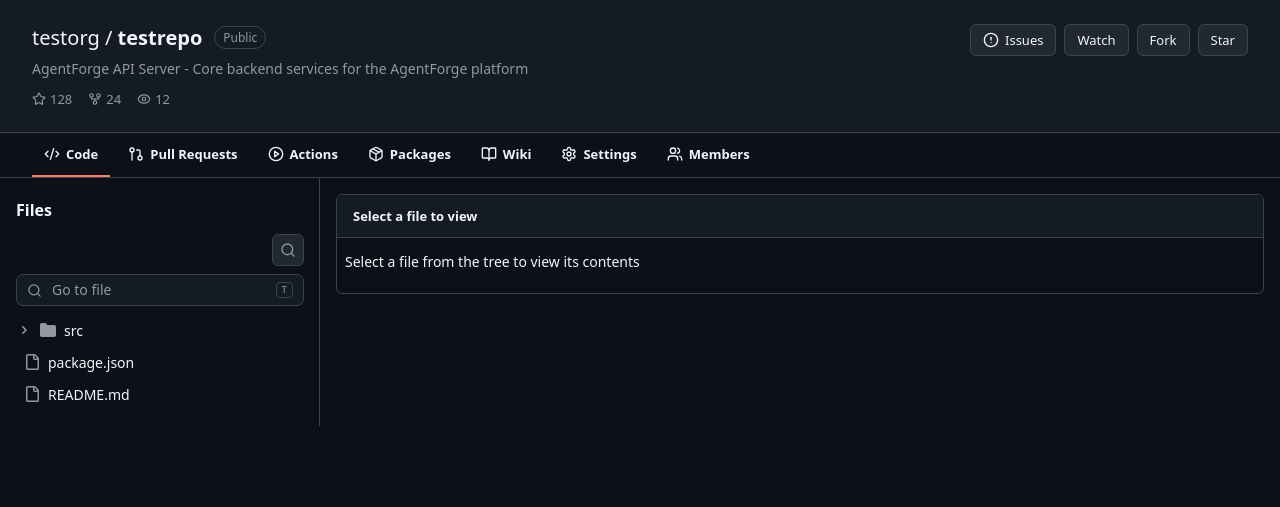
Test: RepositoryDetailPage - Code Tab › expands folders and loads subtree when clicked
Expected: the text "src" is shown, [64,320,83,340]
Click the button "src" at [24, 330], box [16,314,304,346]
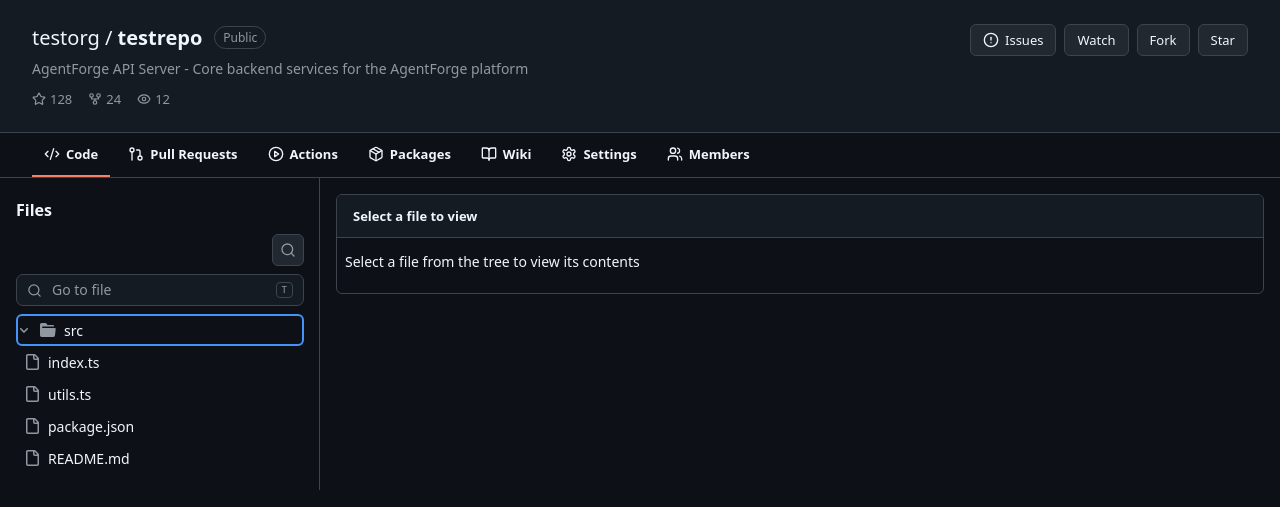
Expected: the text "index.ts" is shown, [48,352,99,372]
Expected: the text "utils.ts" is shown, [48,384,91,404]
